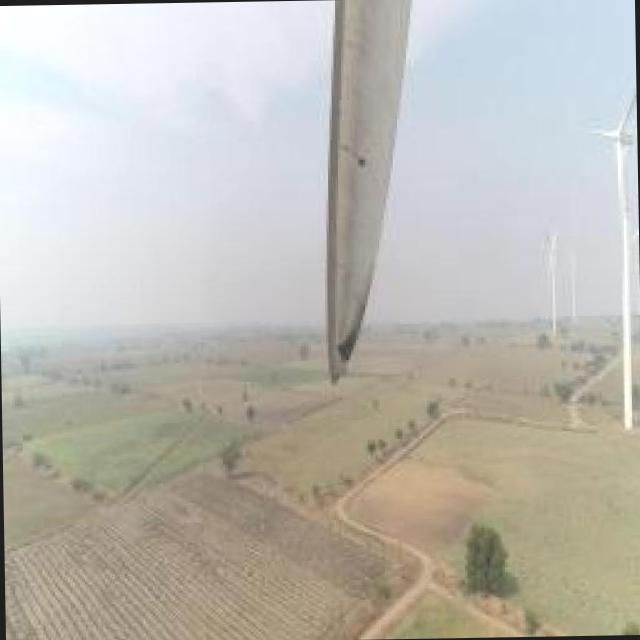Dirt: (328, 0, 416, 385)
Oil LEAKAGE: (339, 297, 368, 361)
Pin Hole: (354, 152, 369, 168)
